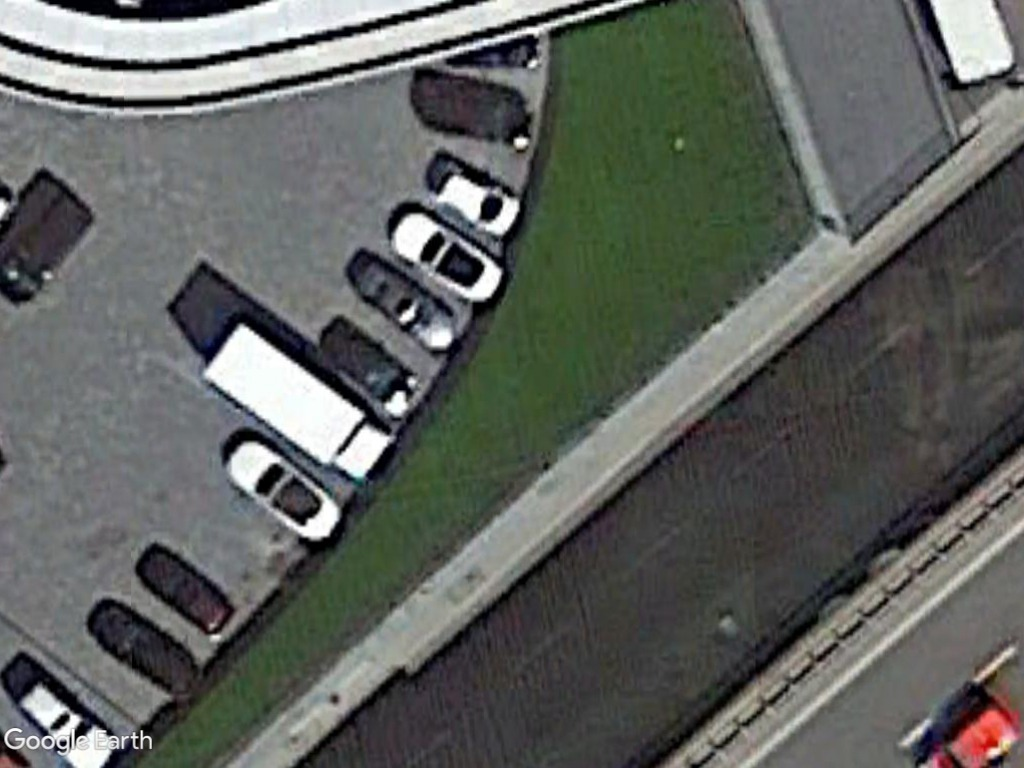car: (217, 433, 343, 543), (384, 207, 506, 305), (423, 152, 525, 239)
truck: (200, 310, 395, 485)
